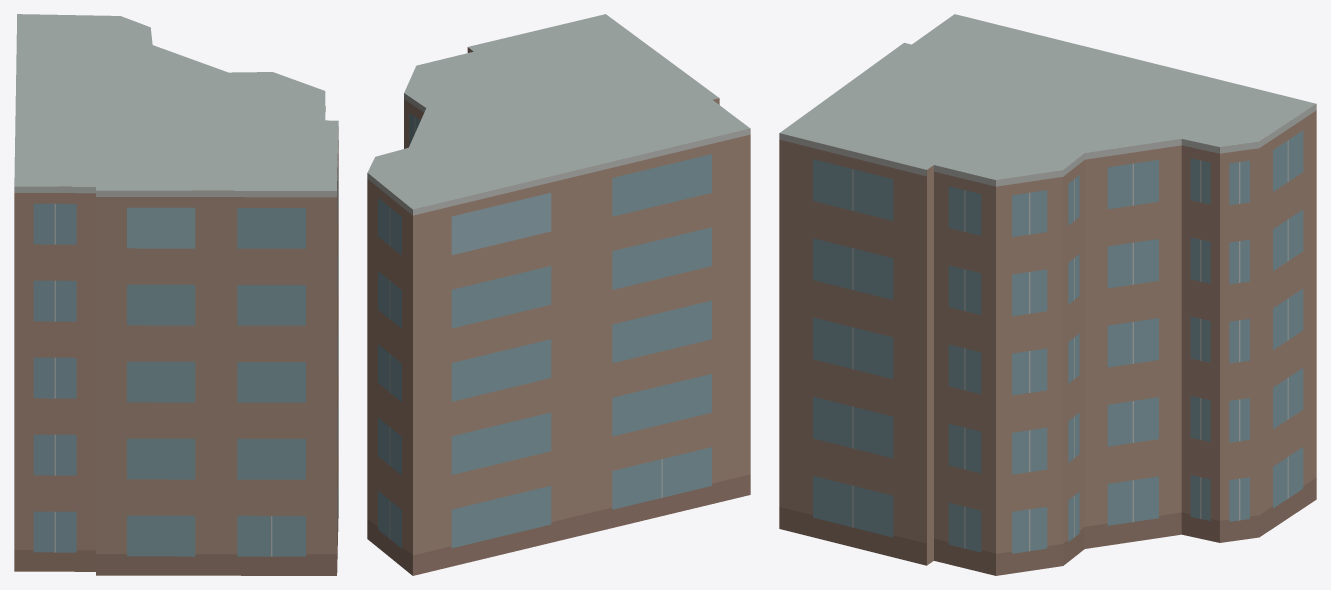
The model's file is survey-upis-32682954.glb.
3 views of the same model, side by side, from view 1: azimuth 30°, elevation 25°; view 2: azimuth 150°, elevation 25°; view 3: azimuth 270°, elevation 25° (orthographic). The views are drawn at different scales.
Parts seen in each view (by area): view 1: survey-upis-32682954.tmp; view 2: survey-upis-32682954.tmp; view 3: survey-upis-32682954.tmp.
Boxes of the visible parts, x1=… form: survey-upis-32682954.tmp: x1=14, y1=14, x2=338, y2=575; survey-upis-32682954.tmp: x1=367, y1=14, x2=750, y2=575; survey-upis-32682954.tmp: x1=779, y1=14, x2=1316, y2=575.
Size of the model in its own units: 13.34 by 14.8 by 18.22.
